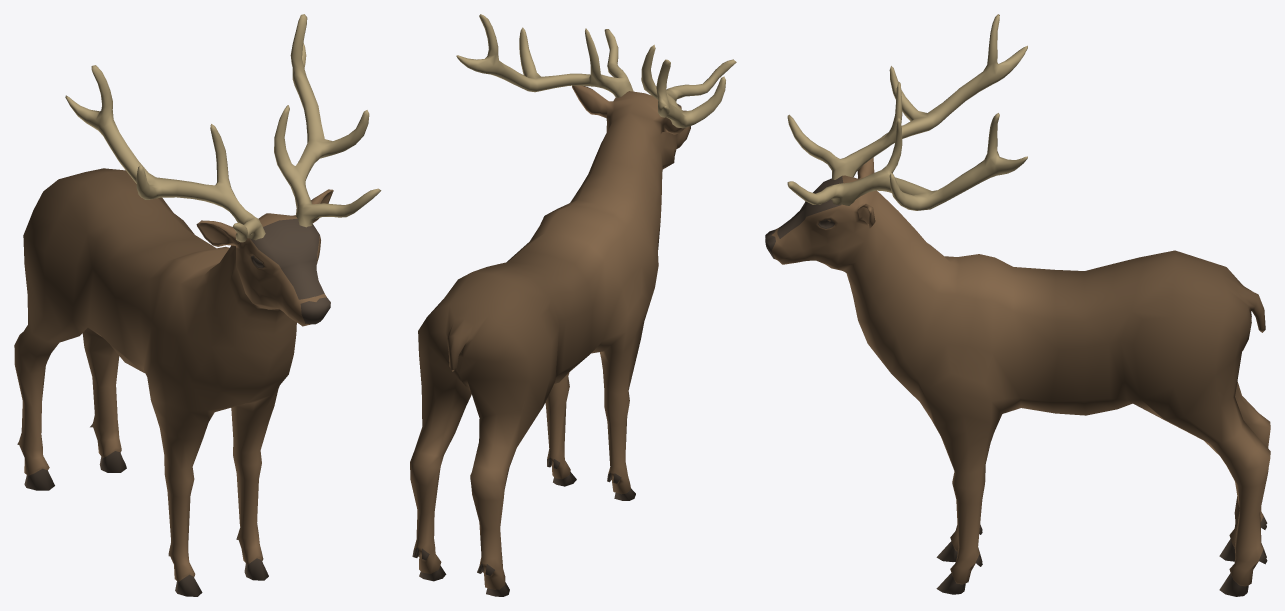
File: stag-dark-mantle.glb
3 renders of one model, left to right at view 1: azimuth 30°, elevation 25°; view 2: azimuth 150°, elevation 25°; view 3: azimuth 270°, elevation 25°, orthographic. The views are drawn at different scales.
Parts seen in each view (by area): view 1: stag-dark-mantle runtime mesh; view 2: stag-dark-mantle runtime mesh; view 3: stag-dark-mantle runtime mesh.
Part boxes in pixels (x1,y1,x2,y2): stag-dark-mantle runtime mesh: [14, 14, 381, 596]; stag-dark-mantle runtime mesh: [410, 14, 736, 596]; stag-dark-mantle runtime mesh: [765, 14, 1270, 596].
Bounding box in the file's own units: 0.9195 × 1.95 × 1.75.
